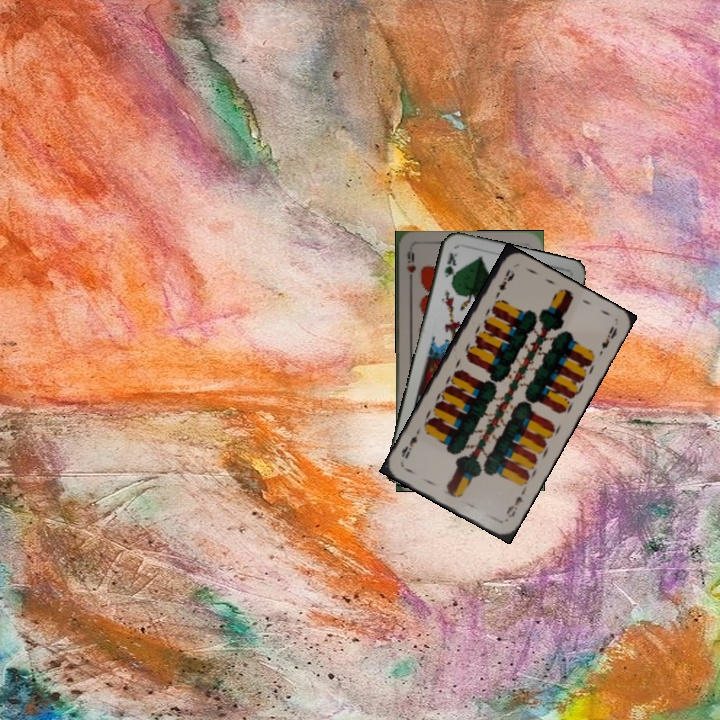E9: (491, 265, 517, 303), (502, 492, 526, 520)
GK: (440, 249, 460, 286)
H9: (402, 246, 418, 286)
